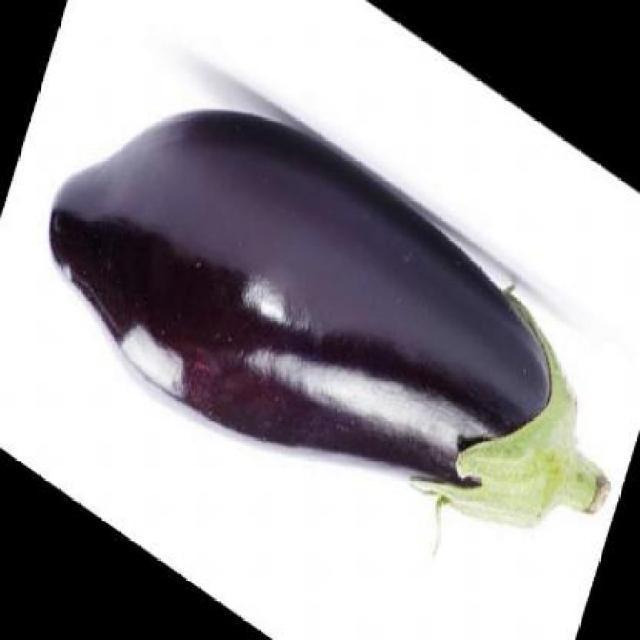eggplant: (43, 107, 614, 543)
